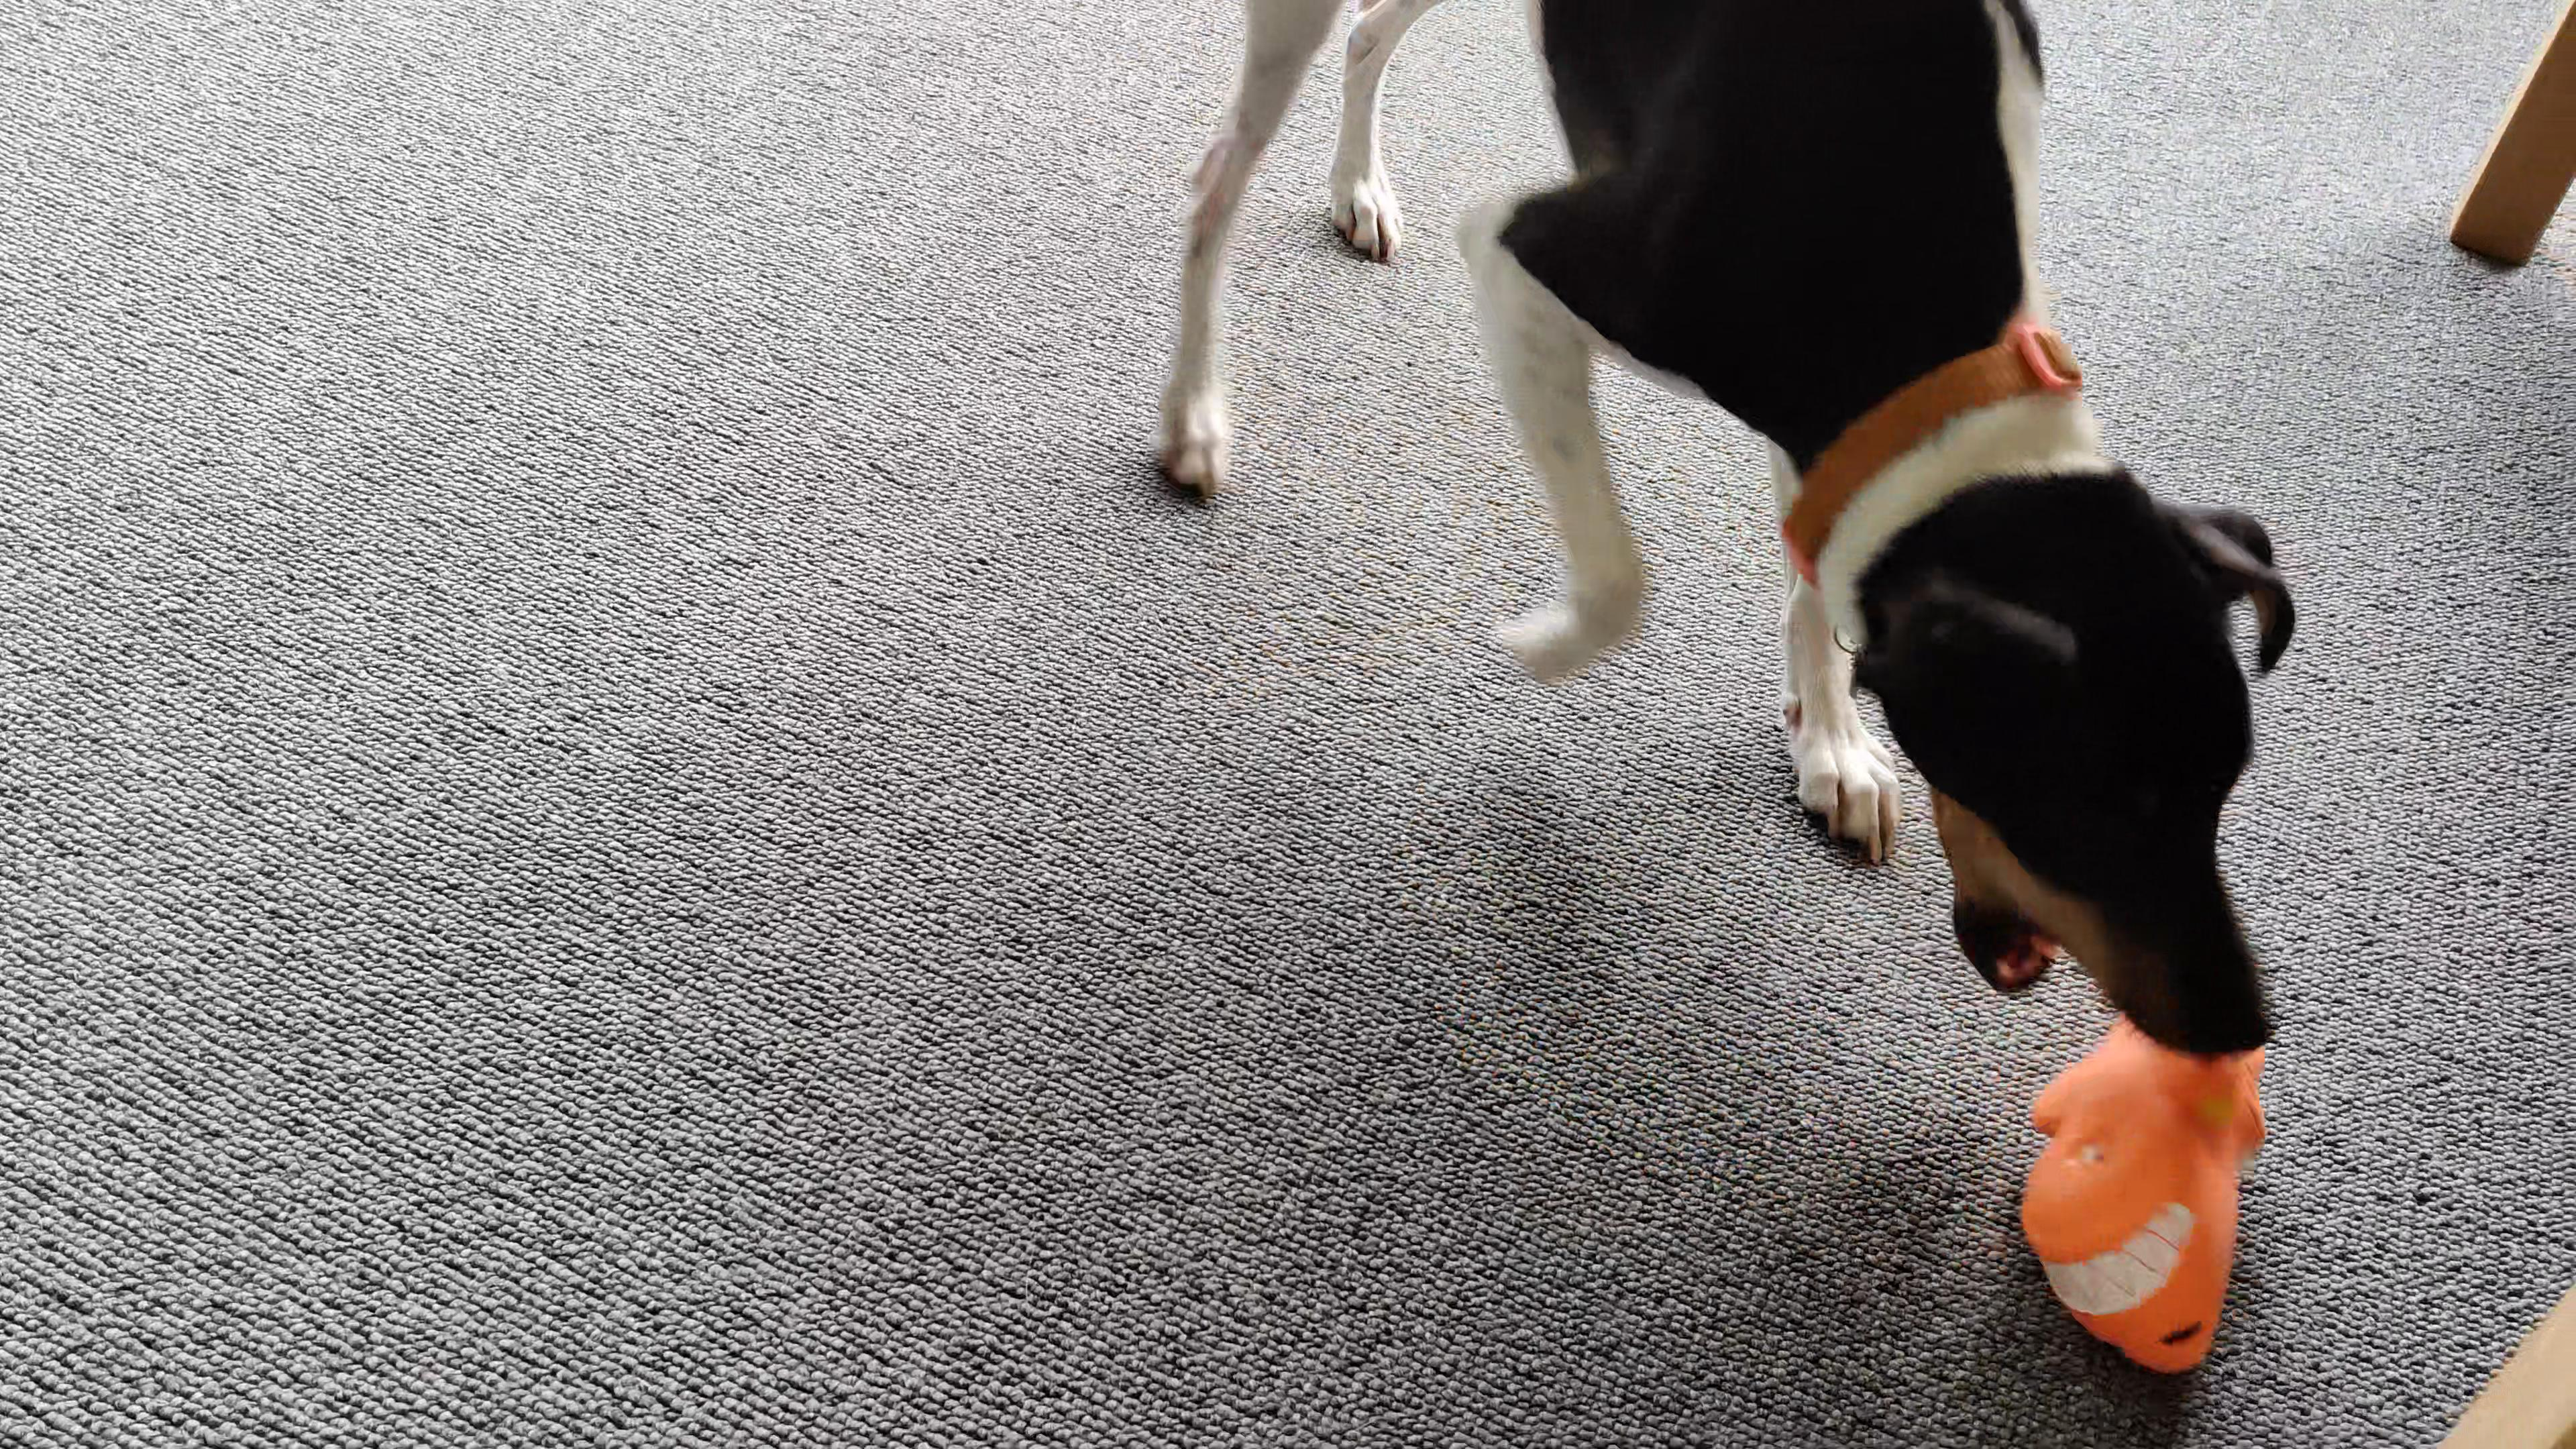Dog: (1118, 0, 2325, 1069)
